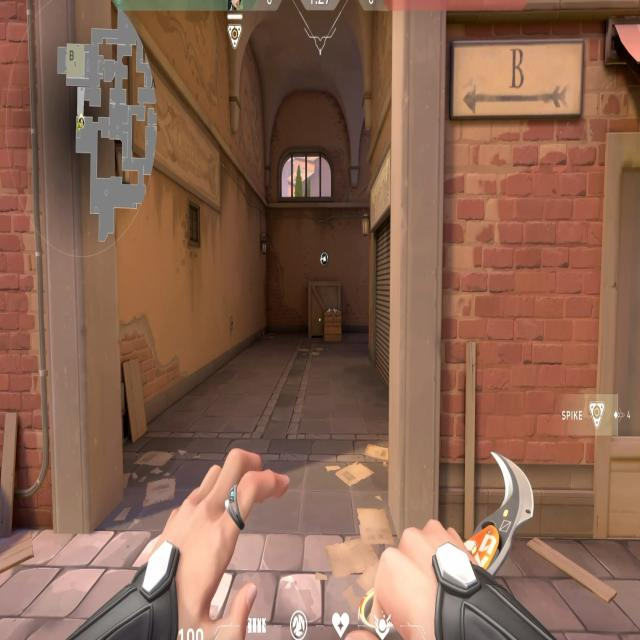B_Main_Wallbang: (304, 245, 349, 349)
Throwables: (273, 145, 341, 208)
